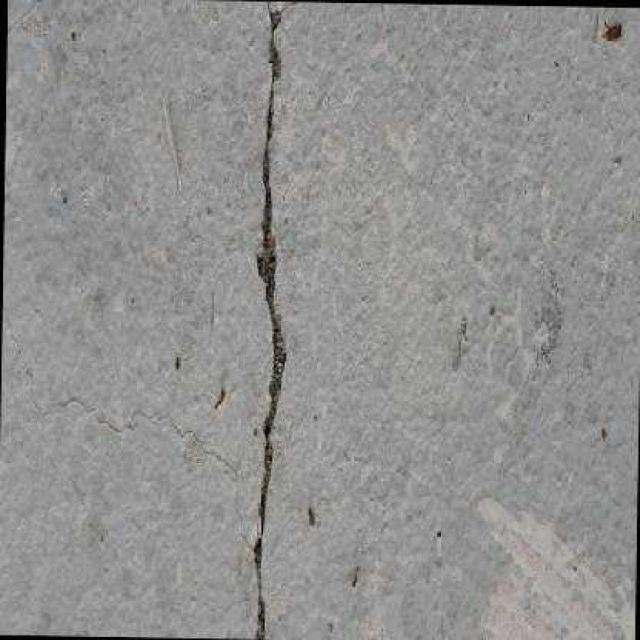D00: (247, 10, 285, 628)
